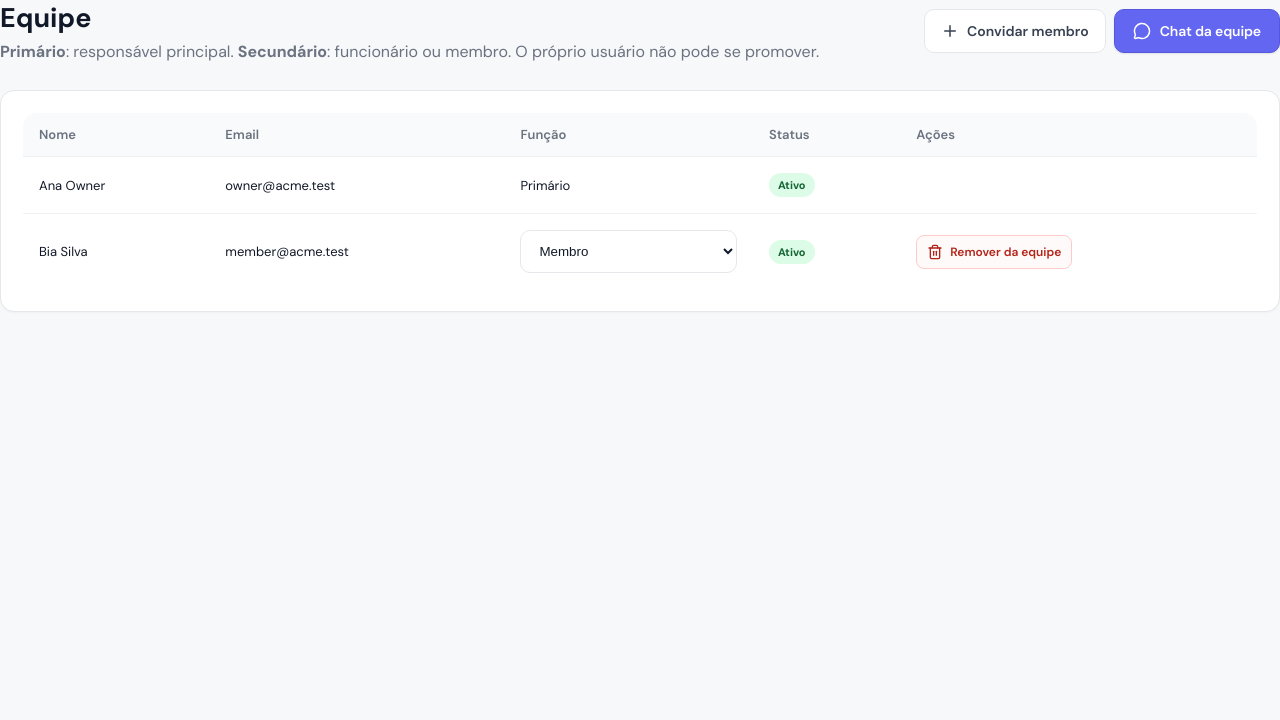
Test case: Equipe › Primário visualiza membros e o acesso responsivo ao chat
The width and height of the screenshot is (1280, 720).
Click the button "Convidar membro" at [1015, 31], box top-left (924, 9), bottom-right (1106, 53)
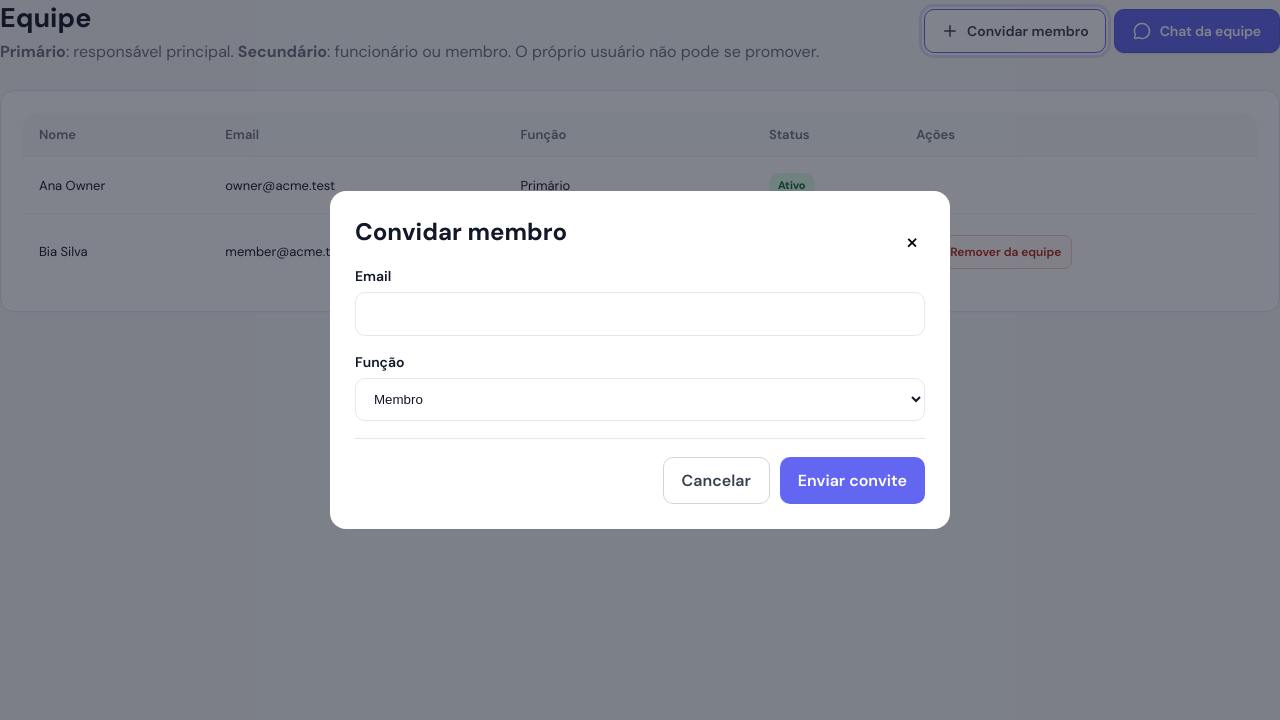
Expected: the text "owner@acme.test" is shown, top-left (209, 156), bottom-right (504, 214)
Expected: the heading "Convidar membro" is shown, top-left (355, 216), bottom-right (567, 247)
